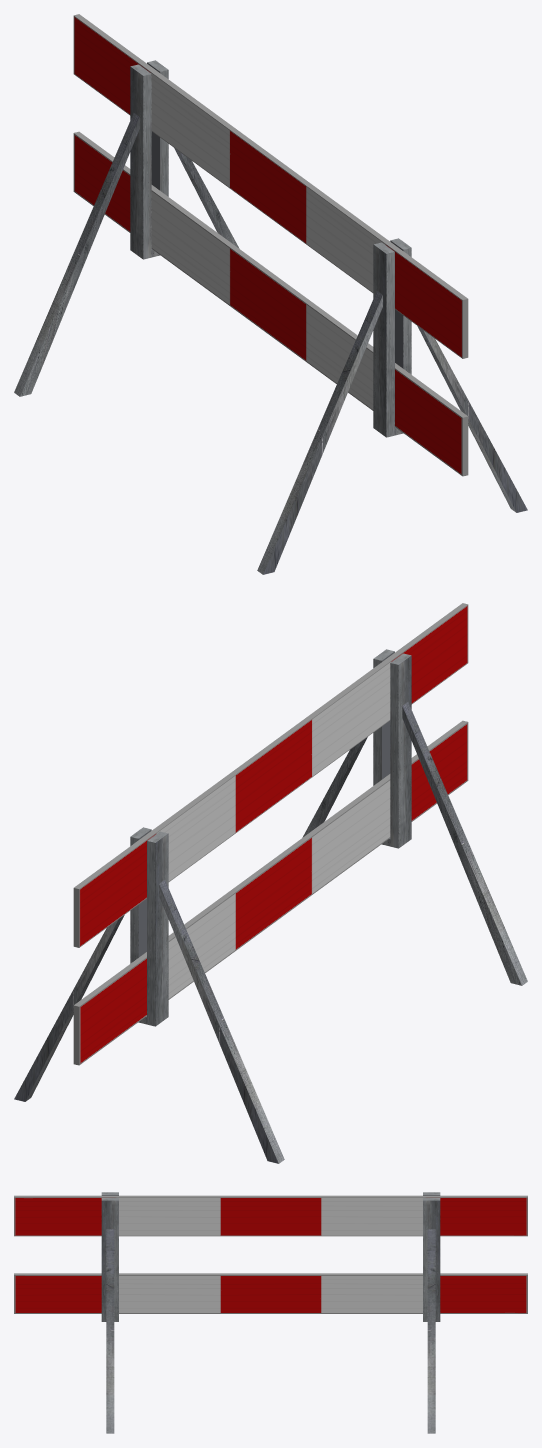
Rendered from SecurityBarrier.fbx.
The picture shows the model from 3 angles, top to bottom: view 1: azimuth 30°, elevation 25°; view 2: azimuth 150°, elevation 25°; view 3: azimuth 270°, elevation 25°; orthographic projection. The views are drawn at different scales.
Parts seen in each view (by area): view 1: Cube.002, Cube; view 2: Cube.002, Cube; view 3: Cube.002, Cube.
Part boxes in pixels (x1,y1,x2,y2): Cube.002: (73, 14, 468, 476); Cube: (14, 60, 527, 574); Cube.002: (73, 603, 468, 1065); Cube: (14, 649, 527, 1163); Cube.002: (14, 1195, 527, 1313); Cube: (101, 1192, 440, 1433).
Bounding box in the file's own units: 943 × 1002 × 2400.
